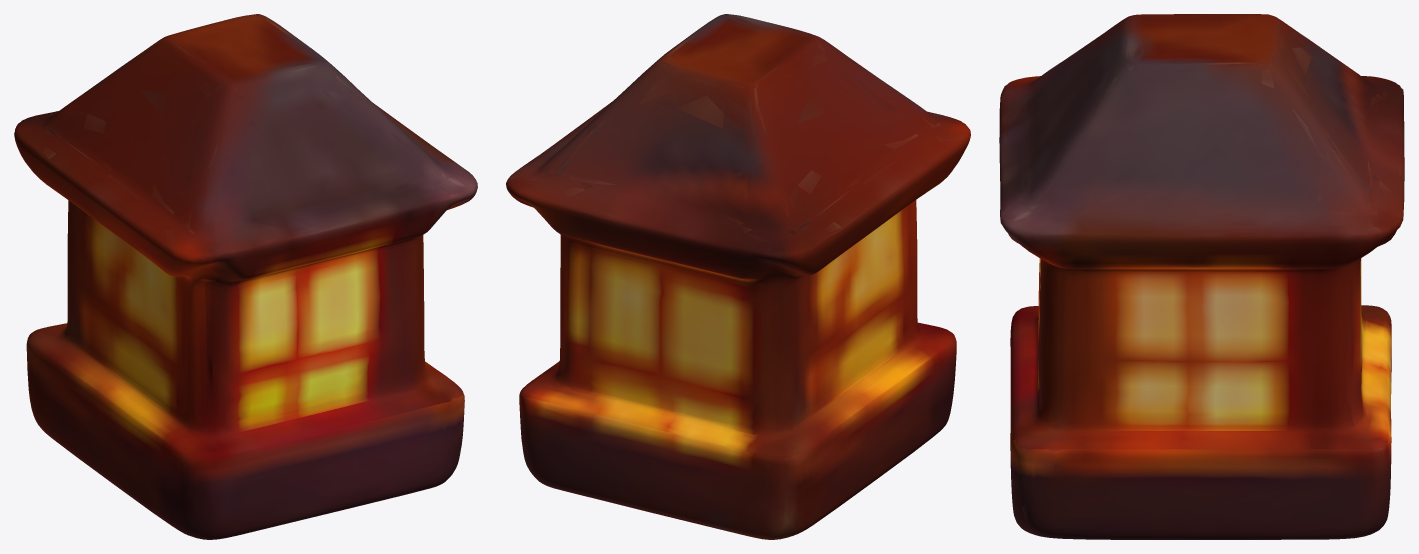
File: linter_sabana.glb
3 views of the same model, side by side, from view 1: azimuth 30°, elevation 25°; view 2: azimuth 150°, elevation 25°; view 3: azimuth 270°, elevation 25° (orthographic). The views are drawn at different scales.
Visible parts, largest first — view 1: material.002; view 2: material.002; view 3: material.002.
Boxes of the visible parts, box(x1,y1,x2,y2) form: material.002: box(14, 14, 477, 539); material.002: box(506, 14, 970, 539); material.002: box(999, 14, 1404, 539).
Bounding box in the file's own units: 0.0622 × 0.0787 × 0.0664.
Materials: 1 (1 with a texture image).
